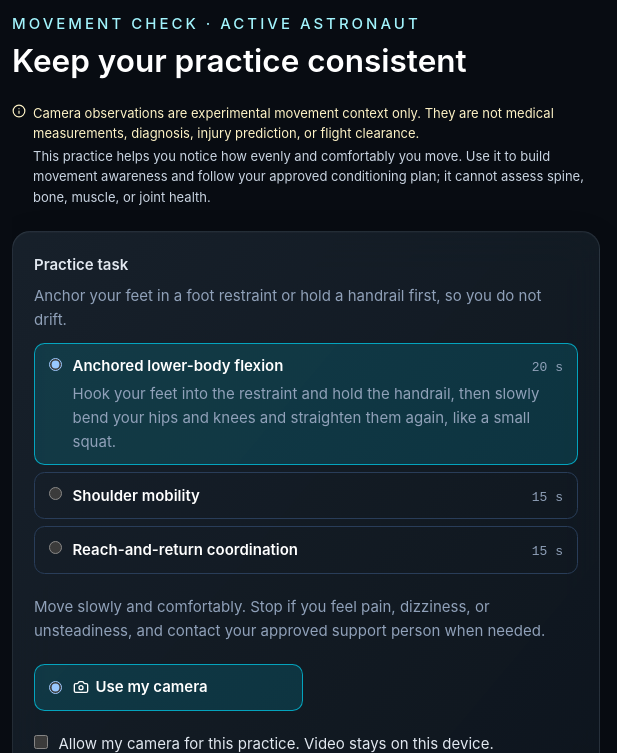
Test: VisualCheckView › shows the how-to line of whichever task is chosen, and keeps the anchor reminder for Active
Expected: the text "slowly bend your hips and knees and straighten them" is shown, [72, 384, 539, 451]
Expected: the text "Anchor your feet in a foot restraint" is shown once, [34, 284, 578, 332]
Click the radio button labelled "Shoulder mobility 15 s" at (56, 494), box [49, 487, 62, 500]
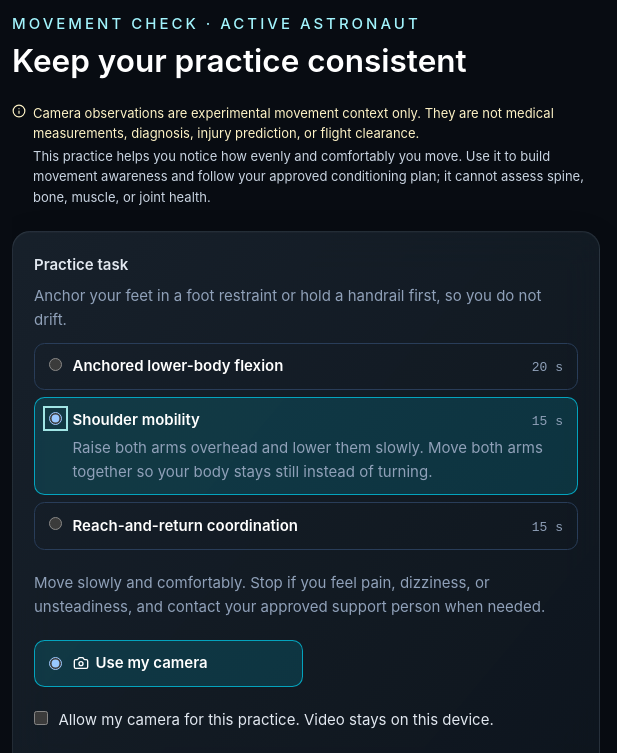
Result: the text "Move both arms together so your body stays still" is shown at [72, 438, 543, 481]
Click the radio button labelled "Reach-and-return coordination 15 s" at (56, 524), box [49, 518, 62, 530]
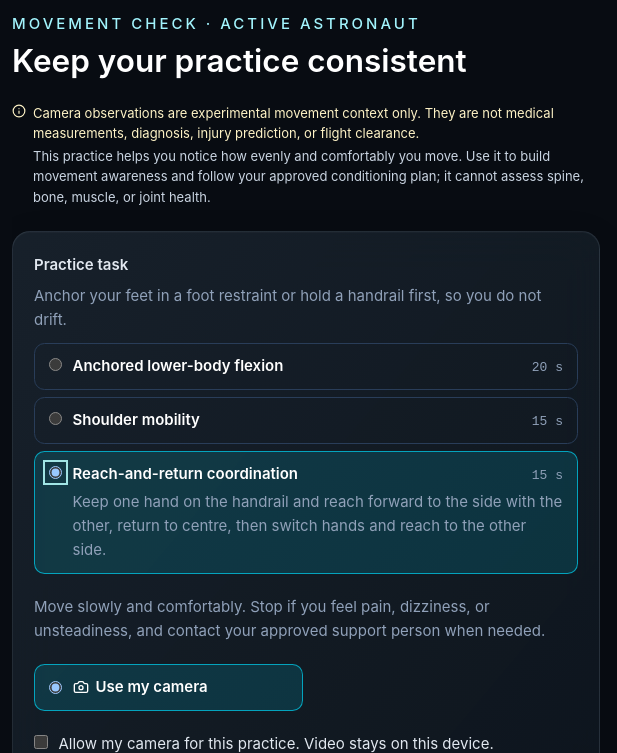
Expected: the text "Anchor your feet in a foot restraint" is shown once, [34, 284, 578, 332]
Result: the text "Keep one hand on the handrail and reach forward" is shown at [72, 492, 562, 559]
Result: the text "Raise both arms overhead" is gone
